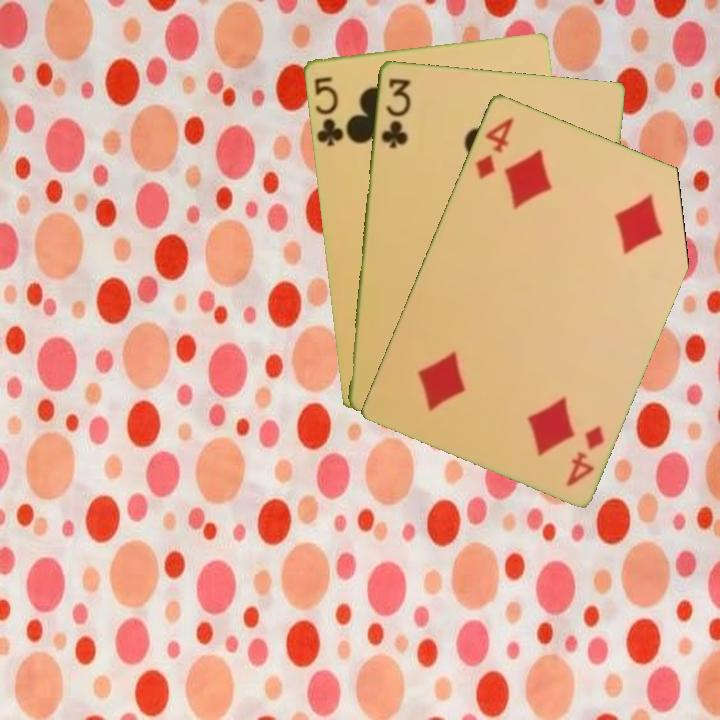3c: (377, 74, 413, 151)
4d: (562, 421, 607, 489), (472, 113, 516, 182)
5c: (310, 72, 346, 148)
